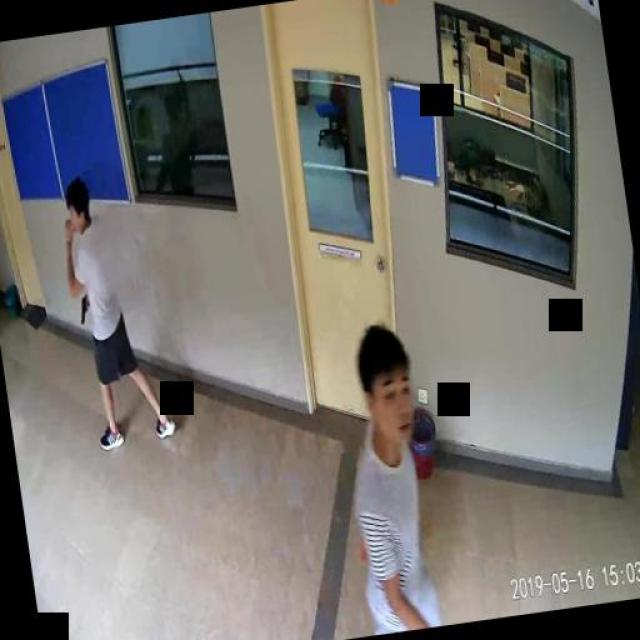gun: (76, 294, 92, 324)
